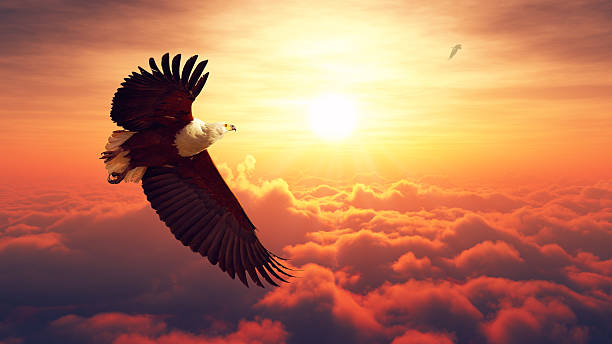Bird: (95, 49, 294, 288)
